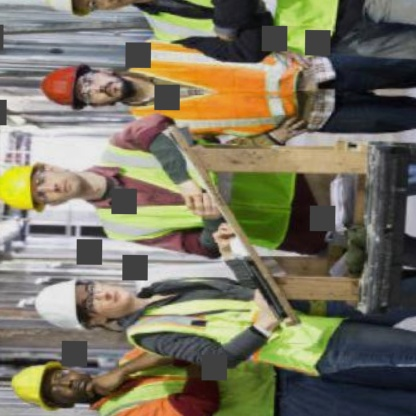red: (37, 56, 86, 114)
vest: (82, 135, 307, 259), (118, 266, 341, 376), (121, 35, 311, 141), (128, 0, 347, 62), (92, 352, 294, 416)
white: (32, 271, 90, 341)
yellow: (7, 355, 61, 416), (0, 159, 42, 220), (30, 0, 94, 26)
